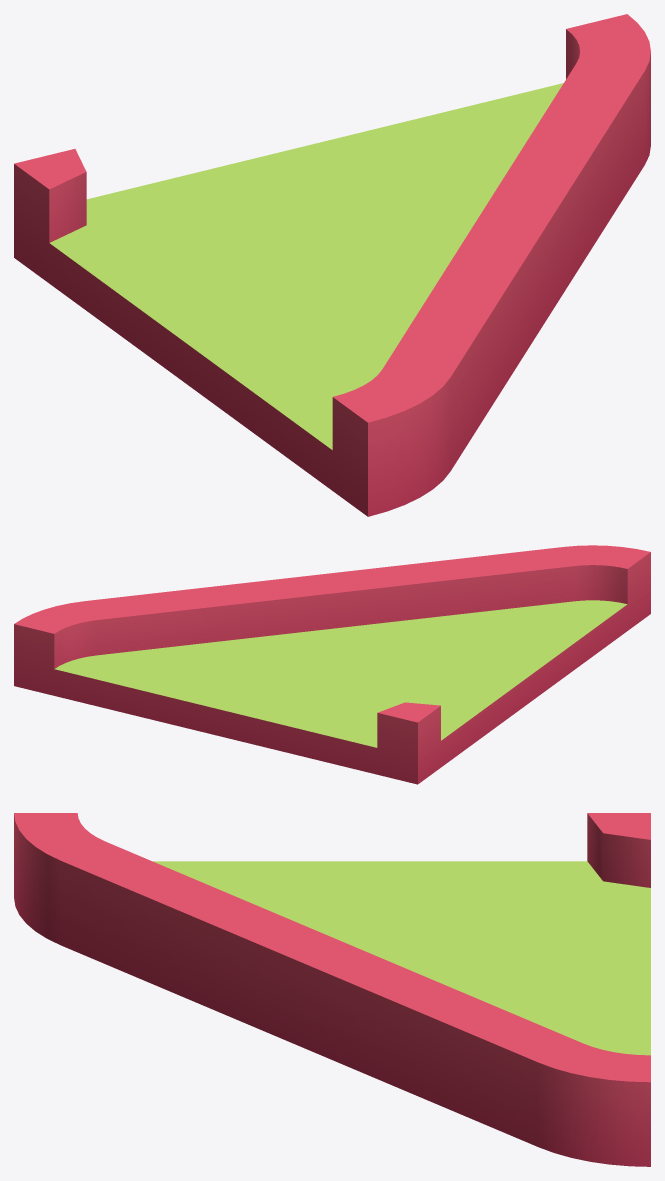
File: skew-corner.gltf
The picture shows the model from 3 angles, top to bottom: view 1: azimuth 30°, elevation 25°; view 2: azimuth 150°, elevation 25°; view 3: azimuth 270°, elevation 25°; orthographic projection. The views are drawn at different scales.
Parts seen in each view (by area): view 1: skew-corner; view 2: skew-corner; view 3: skew-corner.
Boxes of the visible parts, bbox=[...] form: skew-corner: bbox=[14, 14, 650, 516]; skew-corner: bbox=[14, 545, 650, 784]; skew-corner: bbox=[14, 813, 650, 1166].
Size of the model in its own units: 0.9999 by 0.1467 by 0.9999.
1 material, 1 textured.
